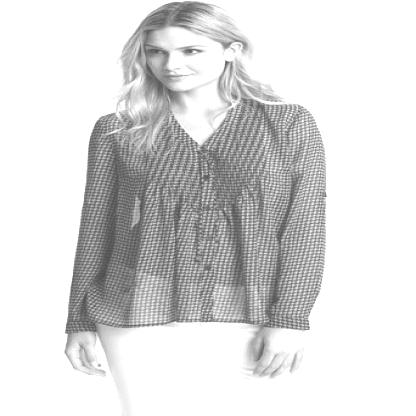dress: (62, 99, 327, 349)
jean: (55, 0, 350, 416)
